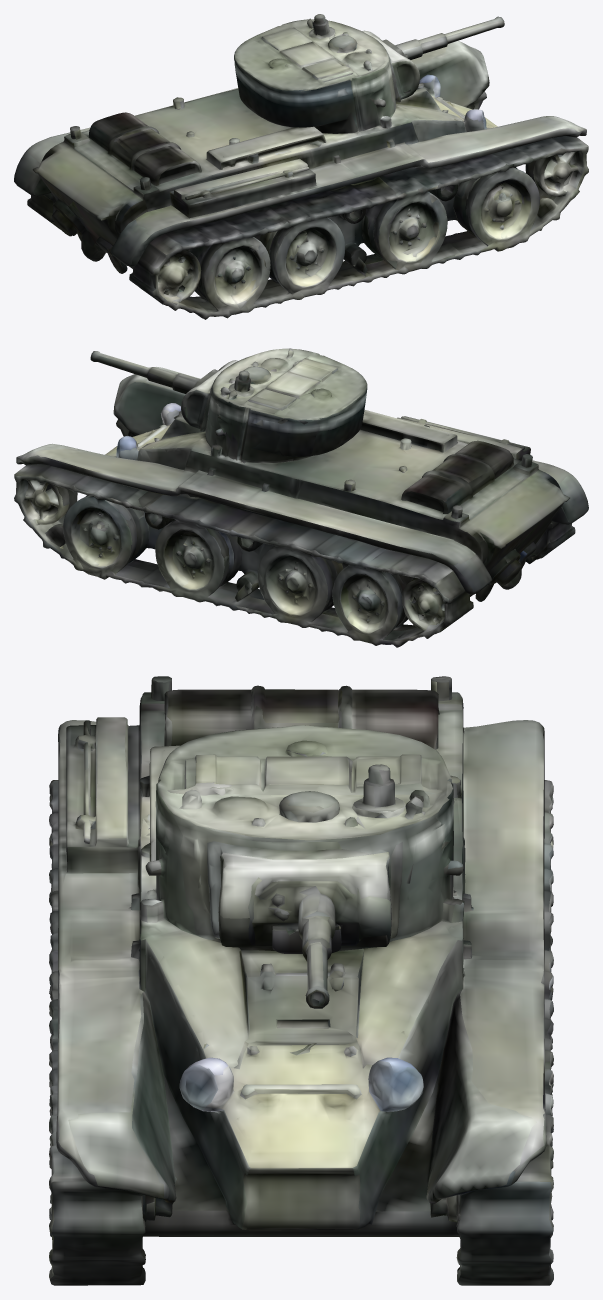
File: bt7_opt.glb
3 views of the same model, one above another, from view 1: azimuth 30°, elevation 25°; view 2: azimuth 150°, elevation 25°; view 3: azimuth 270°, elevation 25° (orthographic). The views are drawn at different scales.
Visible parts, largest first — view 1: node_0; view 2: node_0; view 3: node_0.
Part boxes in pixels (x1,y1,x2,y2): node_0: [14, 14, 588, 319]; node_0: [14, 348, 588, 647]; node_0: [49, 676, 553, 1285].
Size of the model in its own units: 1.11 by 0.4534 by 0.5176.
Materials: 1 (1 with a texture image).
